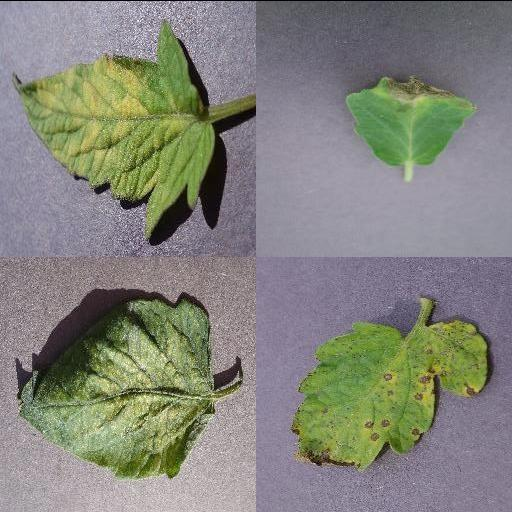Late Blight: (346, 73, 478, 163)
Leaf Mold: (12, 18, 218, 238)
Septoria: (290, 317, 490, 471)
Spider Mites: (16, 295, 218, 475)
